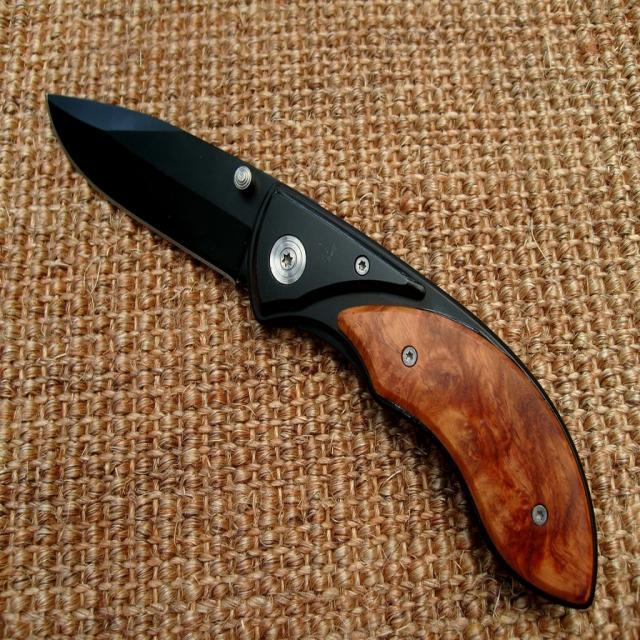Knife: (48, 97, 596, 606)
